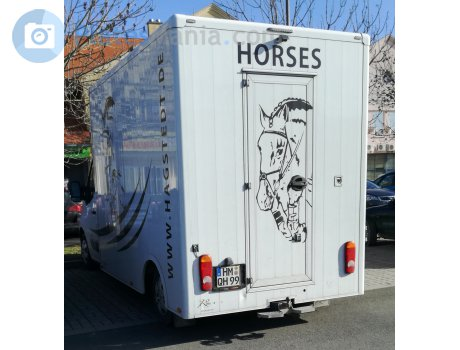License Plates: (219, 265, 244, 282)
